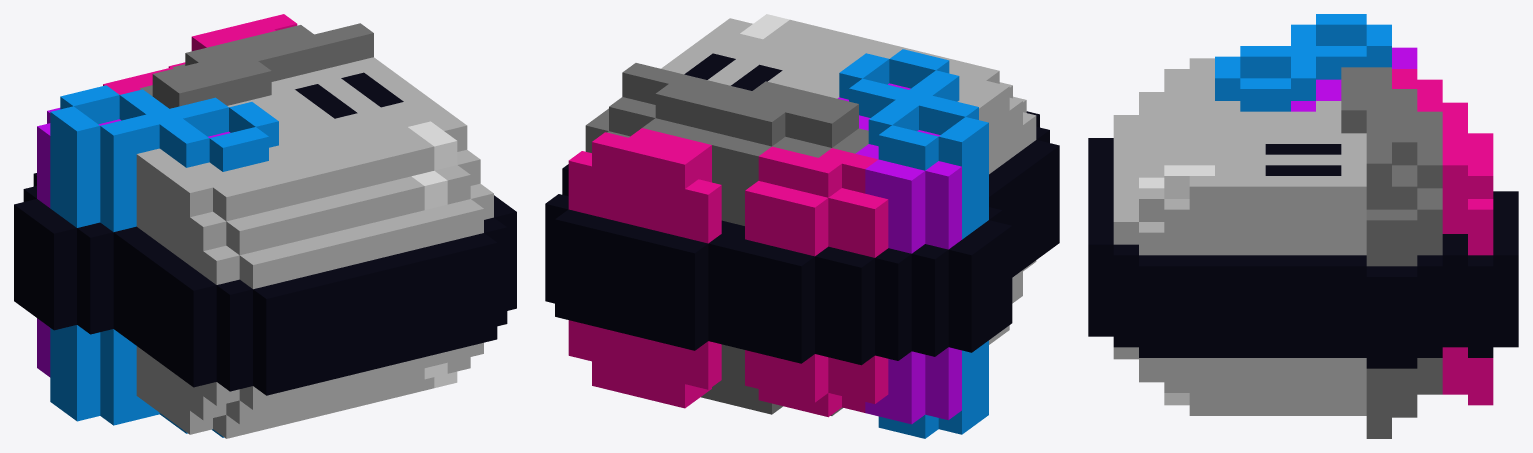
File: zenChan.obj
3 views of the same model, side by side, from view 1: azimuth 30°, elevation 25°; view 2: azimuth 150°, elevation 25°; view 3: azimuth 270°, elevation 25° (orthographic). The views are drawn at different scales.
Bounding box in the file's own units: 1.7 × 1.2 × 1.7.
Materials: 1 (1 with a texture image).
